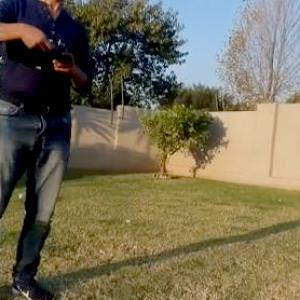follow: (0, 0, 101, 299)
